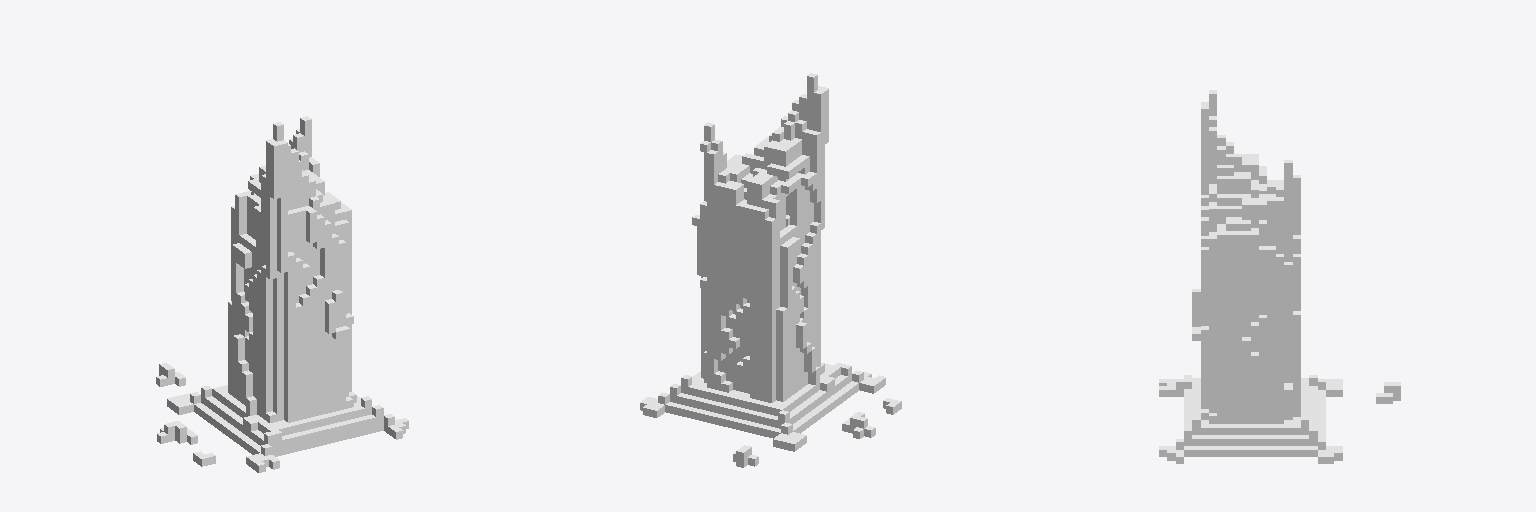
The model's file is BrokenPillar.obj.
3 renders of one model, left to right at view 1: azimuth 30°, elevation 25°; view 2: azimuth 150°, elevation 25°; view 3: azimuth 270°, elevation 25°, orthographic.
Parts seen in each view (by area): view 1: BrokenPillar; view 2: BrokenPillar; view 3: BrokenPillar.
Part boxes in pixels (x1,y1,x2,y2): BrokenPillar: (156,116,408,472); BrokenPillar: (640,73,901,467); BrokenPillar: (1159,90,1400,463).
Size of the model in its own units: 28 by 42 by 29.